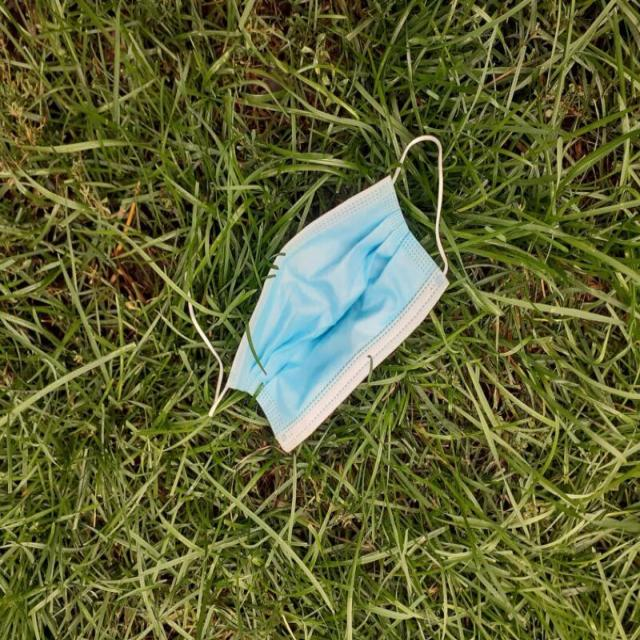face mask: (207, 136, 454, 456)
